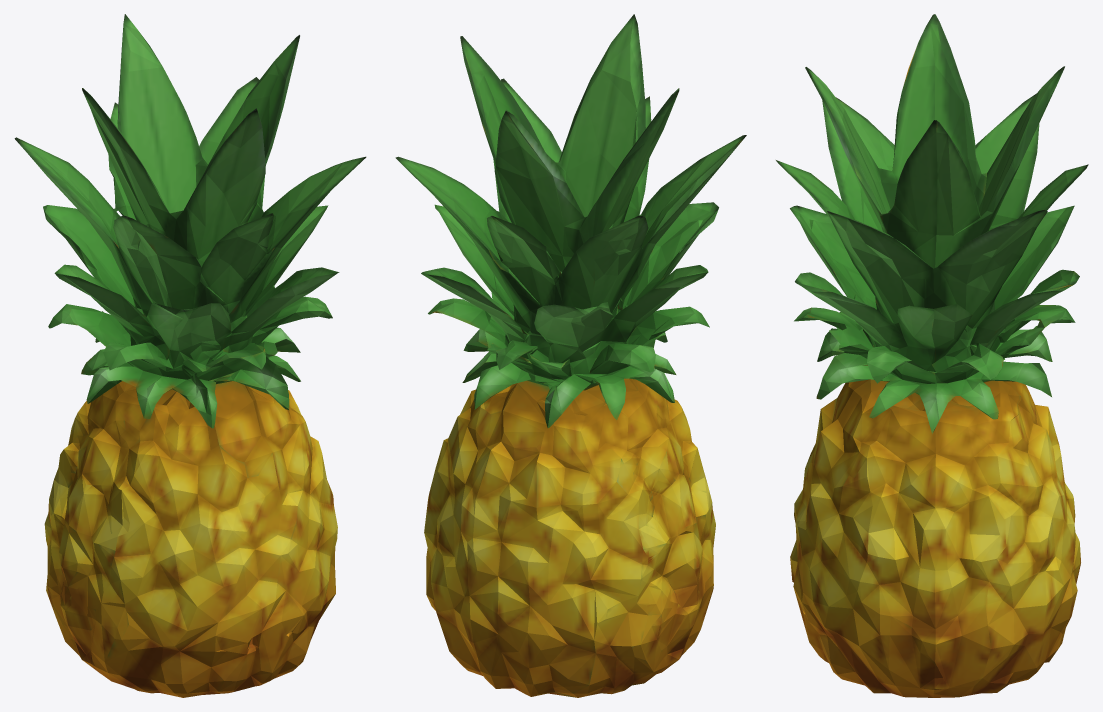
File: pineapple.glb
3 views of the same model, side by side, from view 1: azimuth 30°, elevation 25°; view 2: azimuth 150°, elevation 25°; view 3: azimuth 270°, elevation 25° (orthographic).
Parts seen in each view (by area): view 1: world; view 2: world; view 3: world.
Boxes of the visible parts, x1,y1,x2,y2 form: world: (14, 14, 366, 697); world: (395, 14, 746, 697); world: (776, 14, 1088, 697).
Bounding box in the file's own units: 0.4796 × 0.9991 × 0.4774.
Materials: 1 (1 with a texture image).
